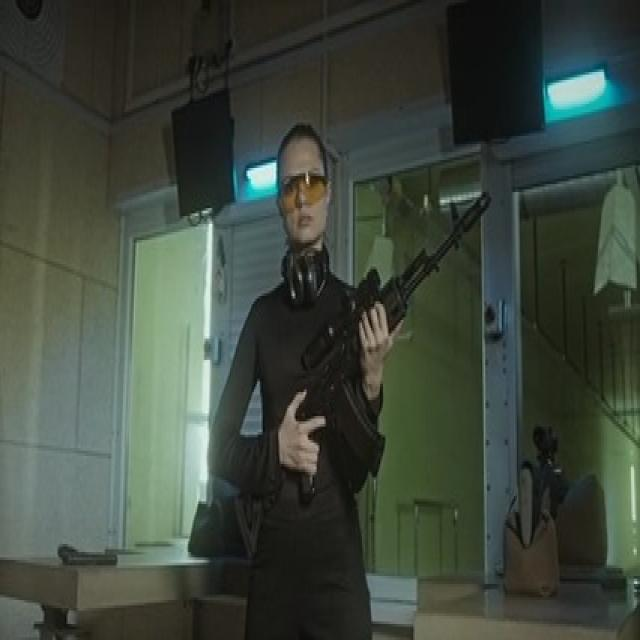Gun_Holder: (238, 185, 510, 507)
Person: (207, 122, 398, 640)
